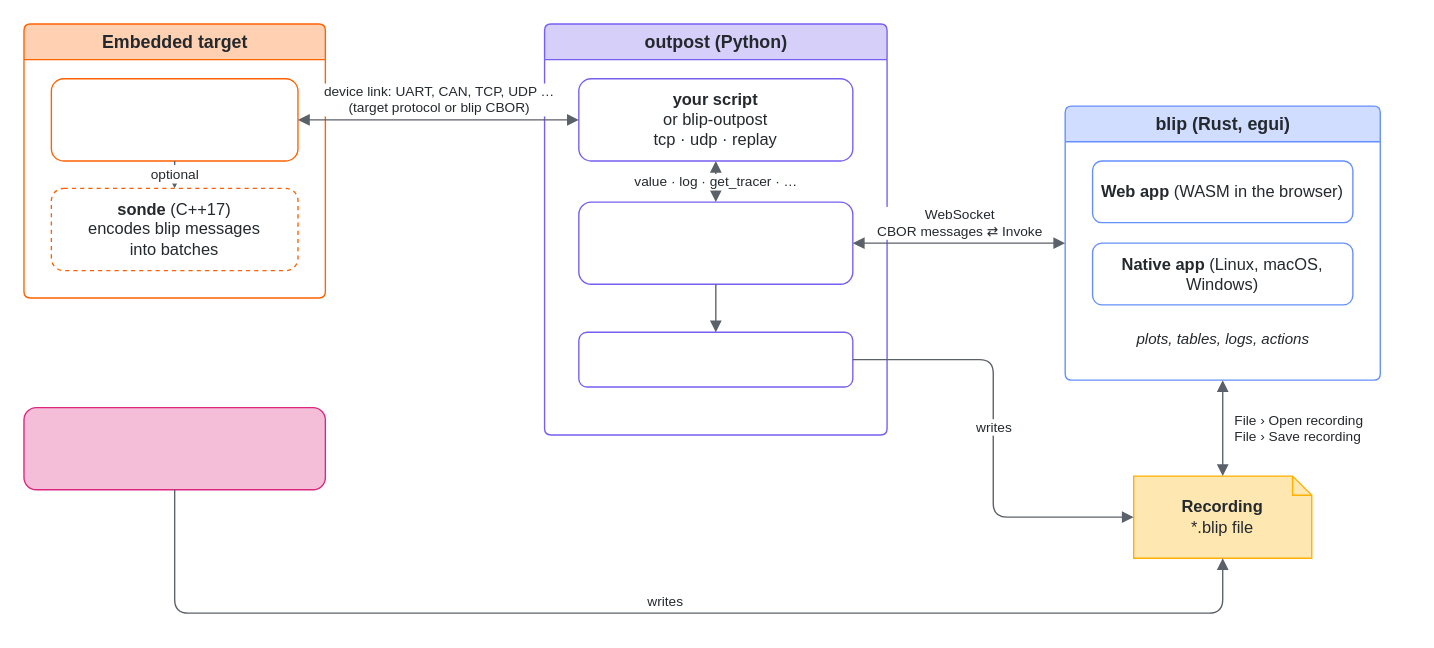
The diagram is 1434 pixels wide and 648 high, and some of its shapes have lost their labels. The shapes that lost their labels are listed below. From the top down, each one's centre as x and y in pixels, then its label:
At pixel 174 119: "Firmware control loops, sensors, ISRs".
At pixel 715 242: "WebSocket server broadcasts messages, carries out invocations".
At pixel 715 359: "Recorder (--record)".
At pixel 174 448: "Unit test / desktop app sonde with a FileSink".
